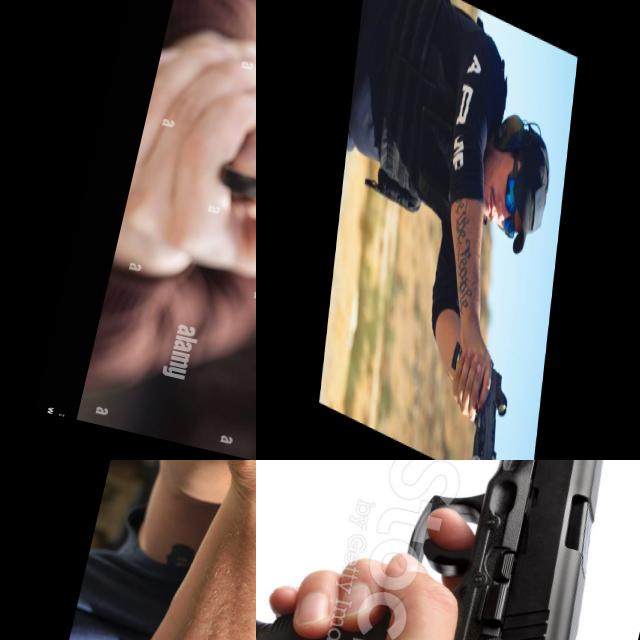handgun: (256, 460, 640, 640), (183, 105, 256, 287), (440, 335, 513, 460)
